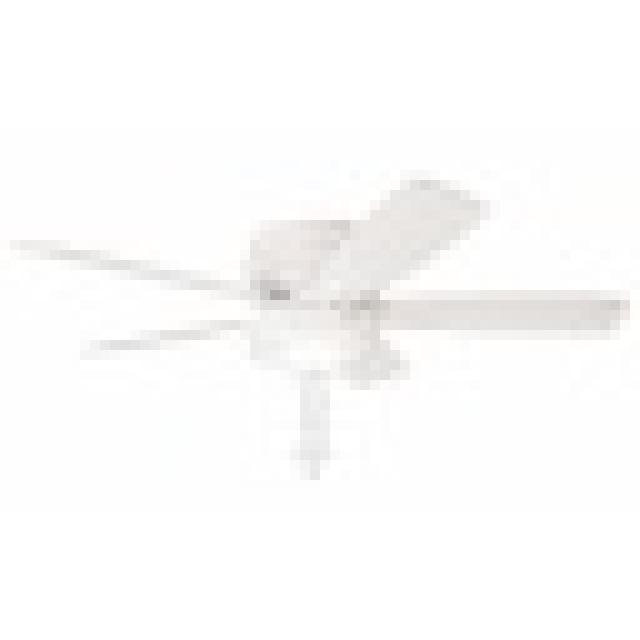Bulb: (59, 184, 632, 449)
